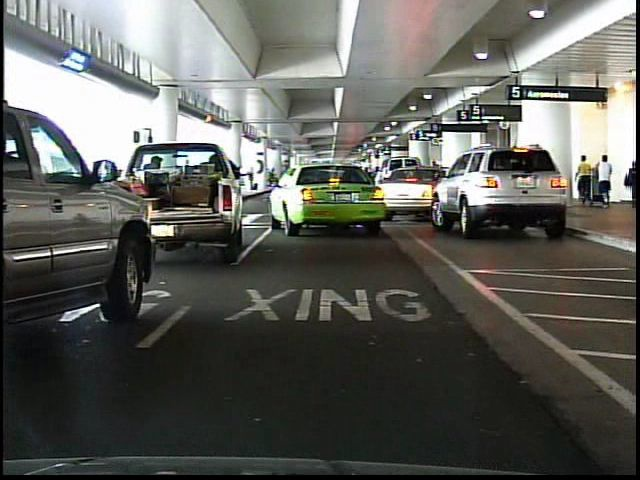person: (597, 152, 615, 208), (577, 152, 595, 207), (621, 159, 636, 210)
